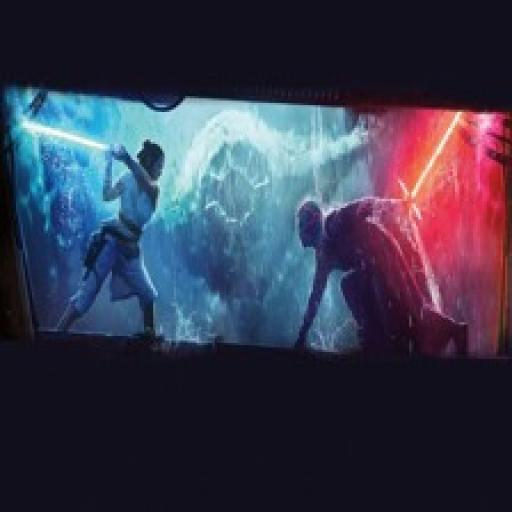human: (284, 191, 478, 366), (55, 137, 173, 339)
lightsaber: (17, 118, 137, 160)
sith saber: (391, 108, 465, 224)
